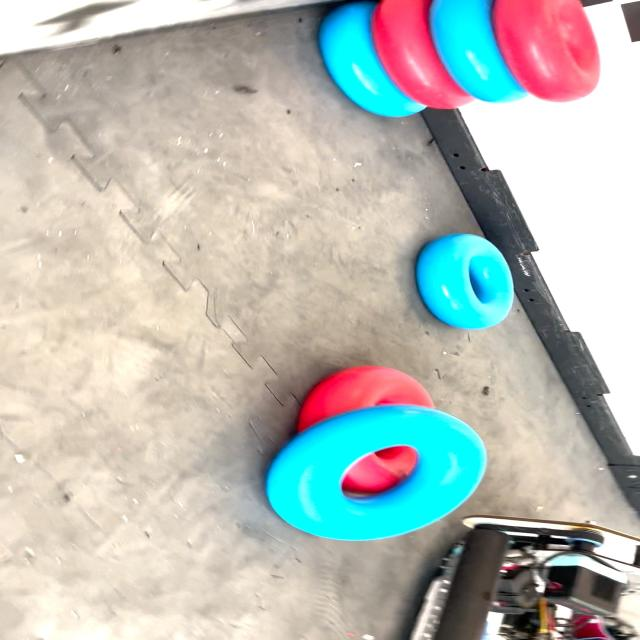Blue-Ring: (267, 405, 487, 541), (320, 1, 424, 116), (429, 0, 529, 102), (416, 234, 513, 329)
Red-Ring: (371, 0, 473, 109), (493, 0, 600, 102), (298, 366, 433, 432)
